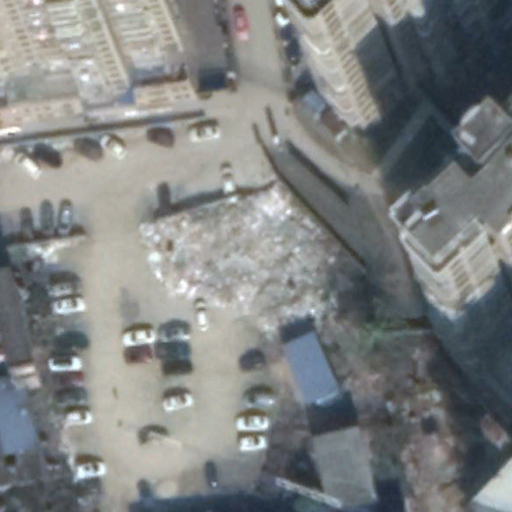msw: (141, 186, 362, 333)
